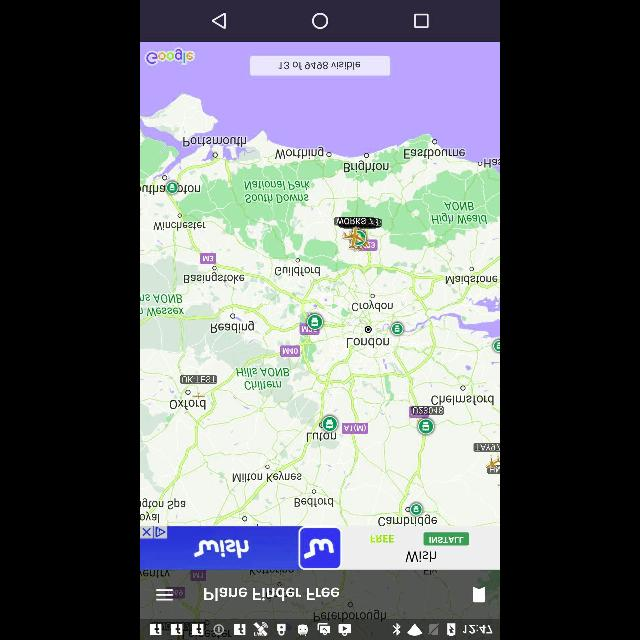icon: (312, 12, 328, 30), (212, 12, 226, 30), (414, 14, 428, 28), (473, 586, 485, 602), (157, 590, 173, 600)
image: (140, 526, 500, 568)
map: (140, 42, 500, 526)
panel: (140, 1, 500, 42)
text: (205, 587, 339, 601)
toolbar: (140, 568, 500, 620)
uppertaskbar: (140, 620, 500, 640)
